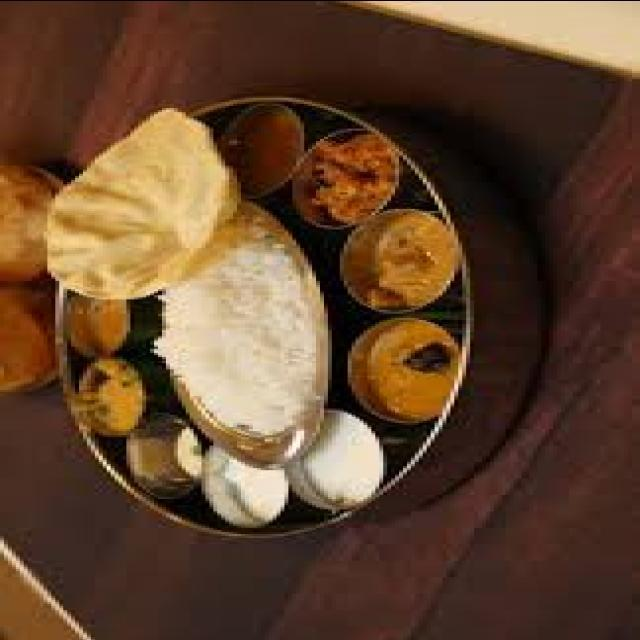papad: (14, 112, 256, 303)
sambar-rasam: (215, 92, 312, 204)
sweet: (214, 94, 310, 204)
veg-fry: (283, 113, 425, 223)
